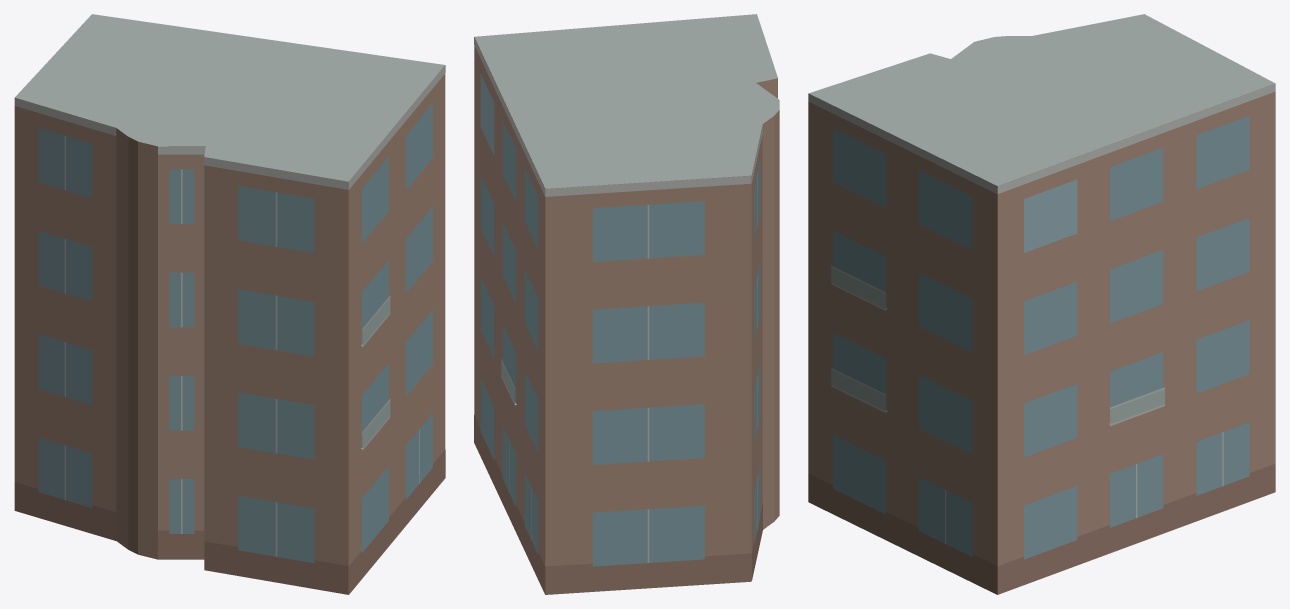
The model's file is survey-upis-32919669.glb.
The picture shows the model from 3 angles, left to right: view 1: azimuth 30°, elevation 25°; view 2: azimuth 150°, elevation 25°; view 3: azimuth 270°, elevation 25°; orthographic projection.
Visible parts, largest first — view 1: survey-upis-32919669.tmp; view 2: survey-upis-32919669.tmp; view 3: survey-upis-32919669.tmp.
Part boxes in pixels (x1,y1,x2,y2): survey-upis-32919669.tmp: [14, 14, 445, 594]; survey-upis-32919669.tmp: [474, 14, 779, 594]; survey-upis-32919669.tmp: [808, 14, 1275, 594].
Size of the model in its own units: 11.02 by 12.2 by 12.64.
